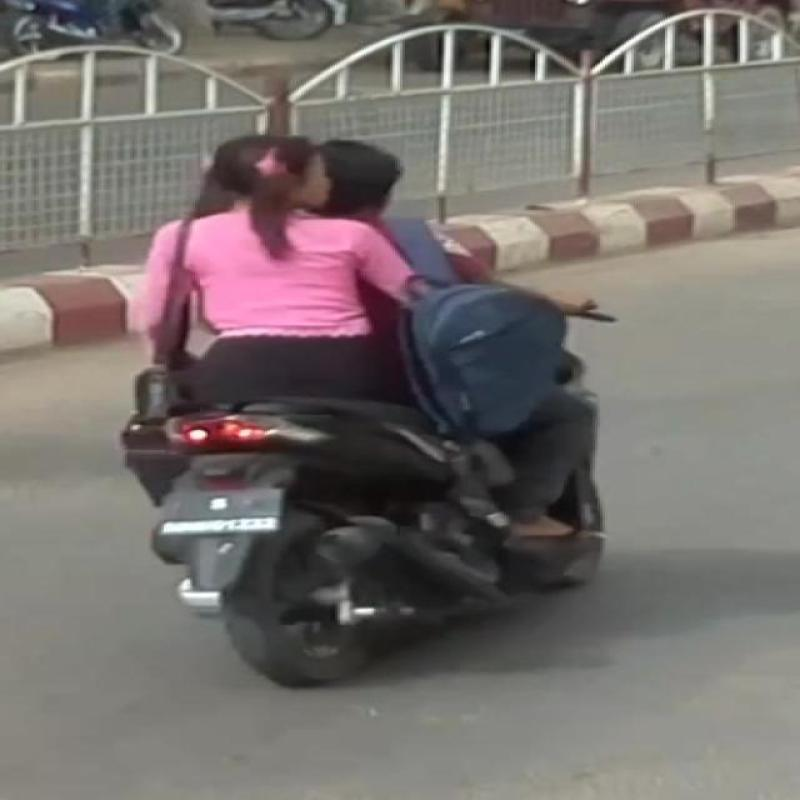nohelmet: (176, 118, 360, 247)
